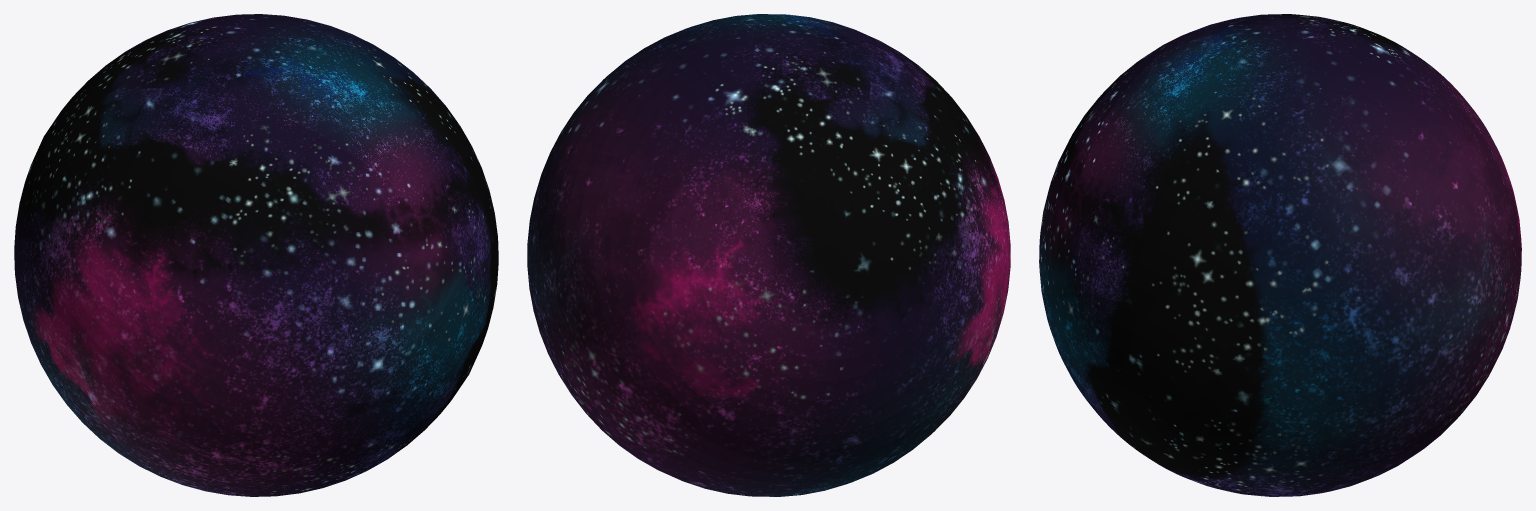
File: skySphere.glb
The picture shows the model from 3 angles, left to right: view 1: azimuth 30°, elevation 25°; view 2: azimuth 150°, elevation 25°; view 3: azimuth 270°, elevation 25°; orthographic projection.
Parts seen in each view (by area): view 1: SkyShpere; view 2: SkyShpere; view 3: SkyShpere.
Boxes of the visible parts, box(x1,y1,x2,y2) form: SkyShpere: box(14, 14, 498, 496); SkyShpere: box(527, 14, 1010, 496); SkyShpere: box(1039, 14, 1521, 496).
Bounding box in the file's own units: 1865 × 1863 × 1865.
Materials: 1 (1 with a texture image).
